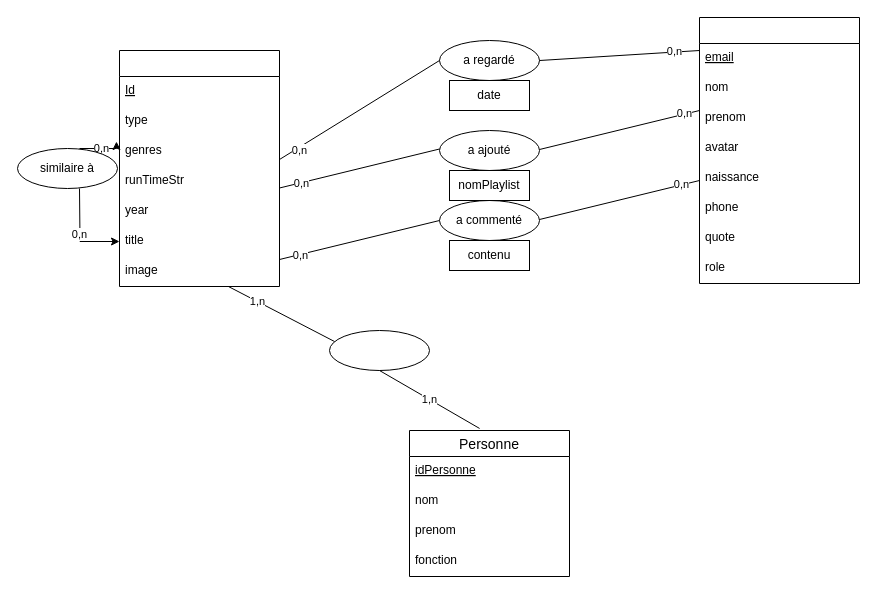
The diagram is 877 pixels wide and 597 high, and some of its shapes have lost their labels. Here are the shapes that lost their labels. From the top down, the box of each, then its label:
(118, 50, 280, 286): Media
(698, 16, 860, 284): Utilisateur
(328, 330, 430, 370): a participé
